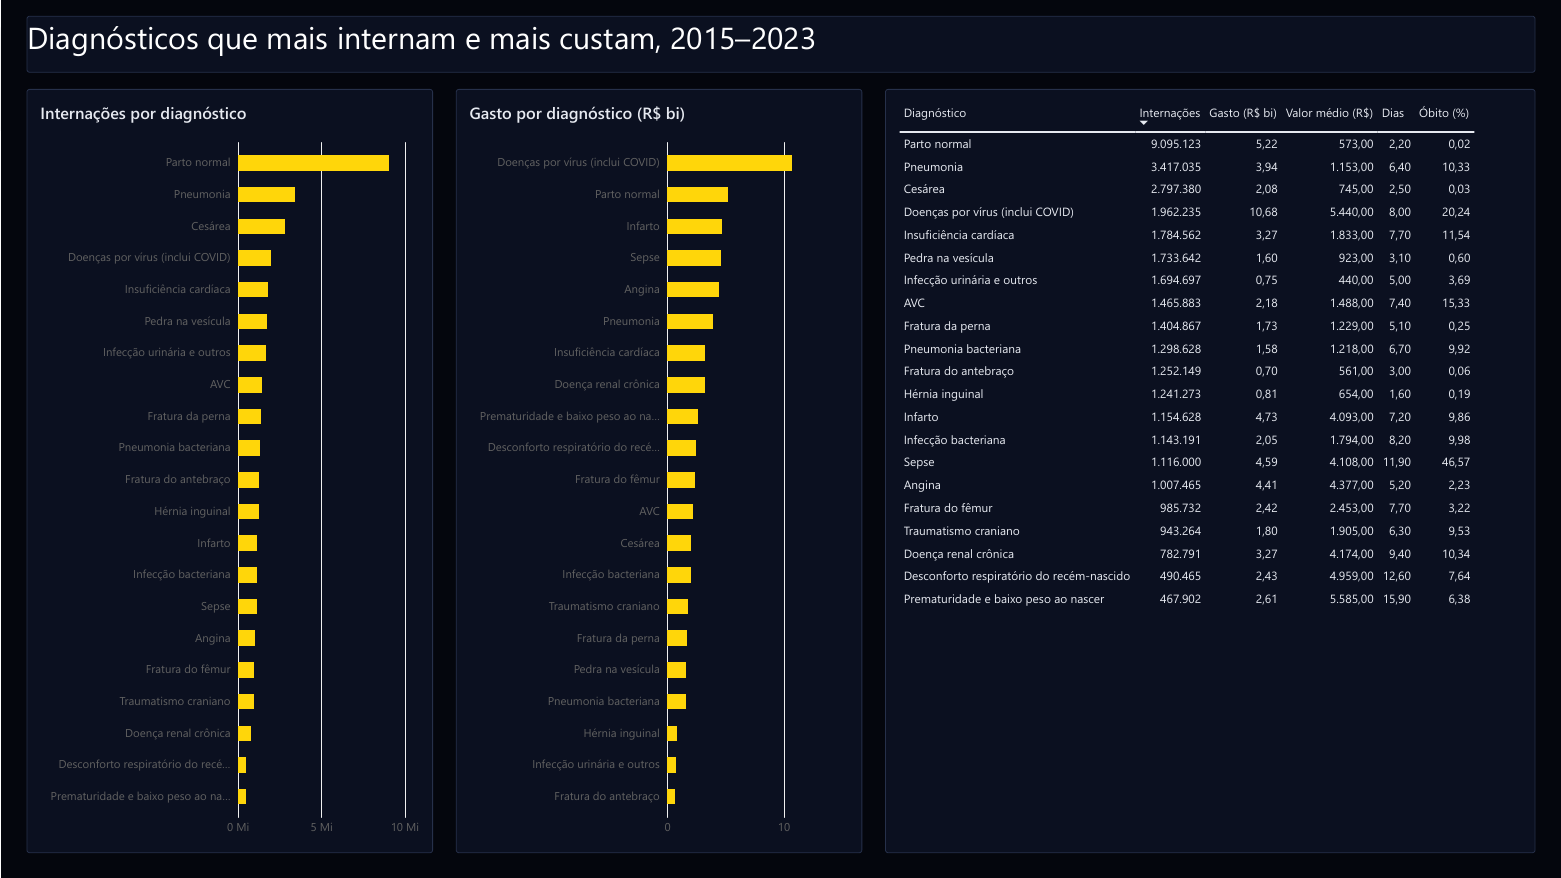

What the dashboard file says about the page in this screenshot:
{"tool":"powerbi","page":{"name":"Diagnósticos","canvas":[1920,1080],"ordinal":1},"visuals":[{"type":"tableEx","fields":{"Values":["ranking_diagnosticos.diagnostico","Sum(ranking_diagnosticos.internacoes)","Sum(ranking_diagnosticos.valor_total_bi)","Sum(ranking_diagnosticos.valor_medio)","Sum(ranking_diagnosticos.media_dias)","Sum(ranking_diagnosticos.pct_obito)"]},"box":[1088,110,800,940],"z":0},{"type":"clusteredBarChart","title":"Internações por diagnóstico","fields":{"Category":["ranking_diagnosticos.diagnostico"],"Y":["Sum(ranking_diagnosticos.internacoes)"]},"box":[32,110,500,940],"z":1},{"type":"clusteredBarChart","title":"Gasto por diagnóstico (R$ bi)","fields":{"Category":["ranking_diagnosticos.diagnostico"],"Y":["Sum(ranking_diagnosticos.valor_total_bi)"]},"box":[560,110,500,940],"z":2},{"type":"textbox","box":[32,20,1856,70],"z":4}]}

Visuals, with their boxes in screenshot pixels (x1, y1, x2, y2), scaled from the page's 1920x1080 canvas onto the 1561x878 screenshot:
tableEx - ranking_diagnosticos.diagnostico x Sum(ranking_diagnosticos.internacoes): <bbox>885, 89, 1535, 854</bbox>
"Internações por diagnóstico" clusteredBarChart: <bbox>26, 89, 433, 854</bbox>
"Gasto por diagnóstico (R$ bi)" clusteredBarChart: <bbox>455, 89, 862, 854</bbox>
textbox: <bbox>26, 16, 1535, 73</bbox>
